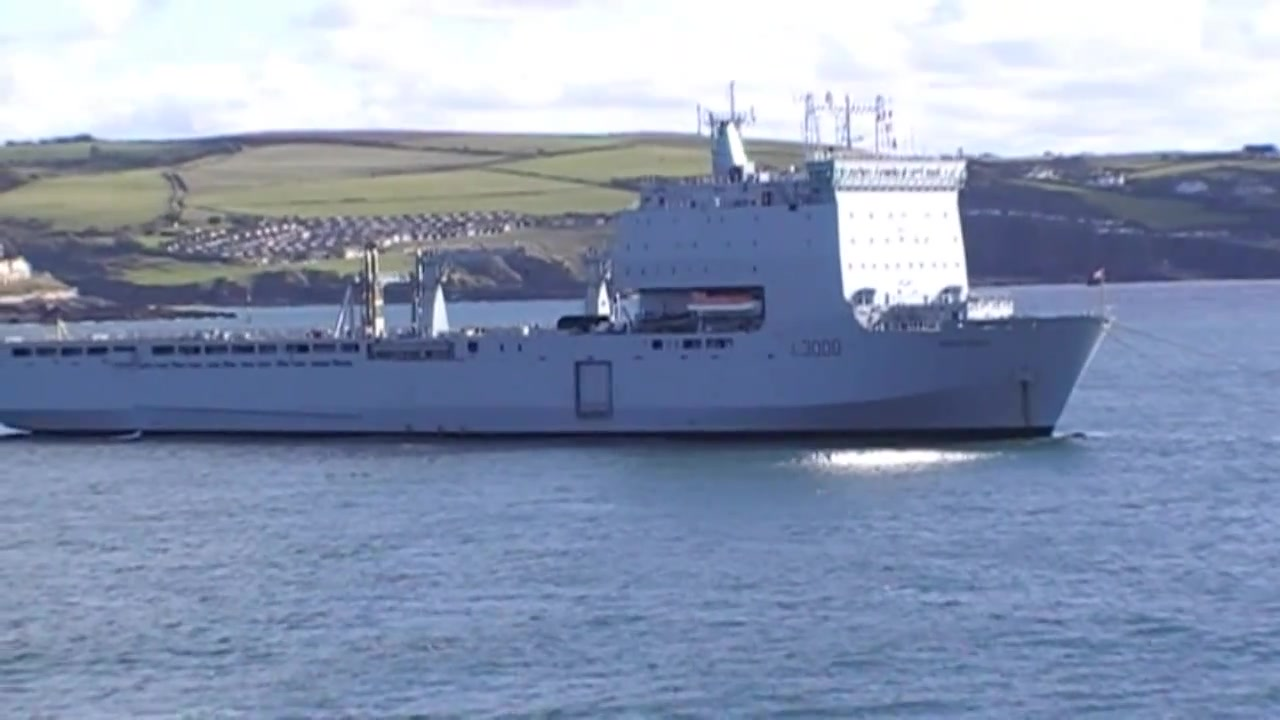boat: (1, 89, 1118, 451)
